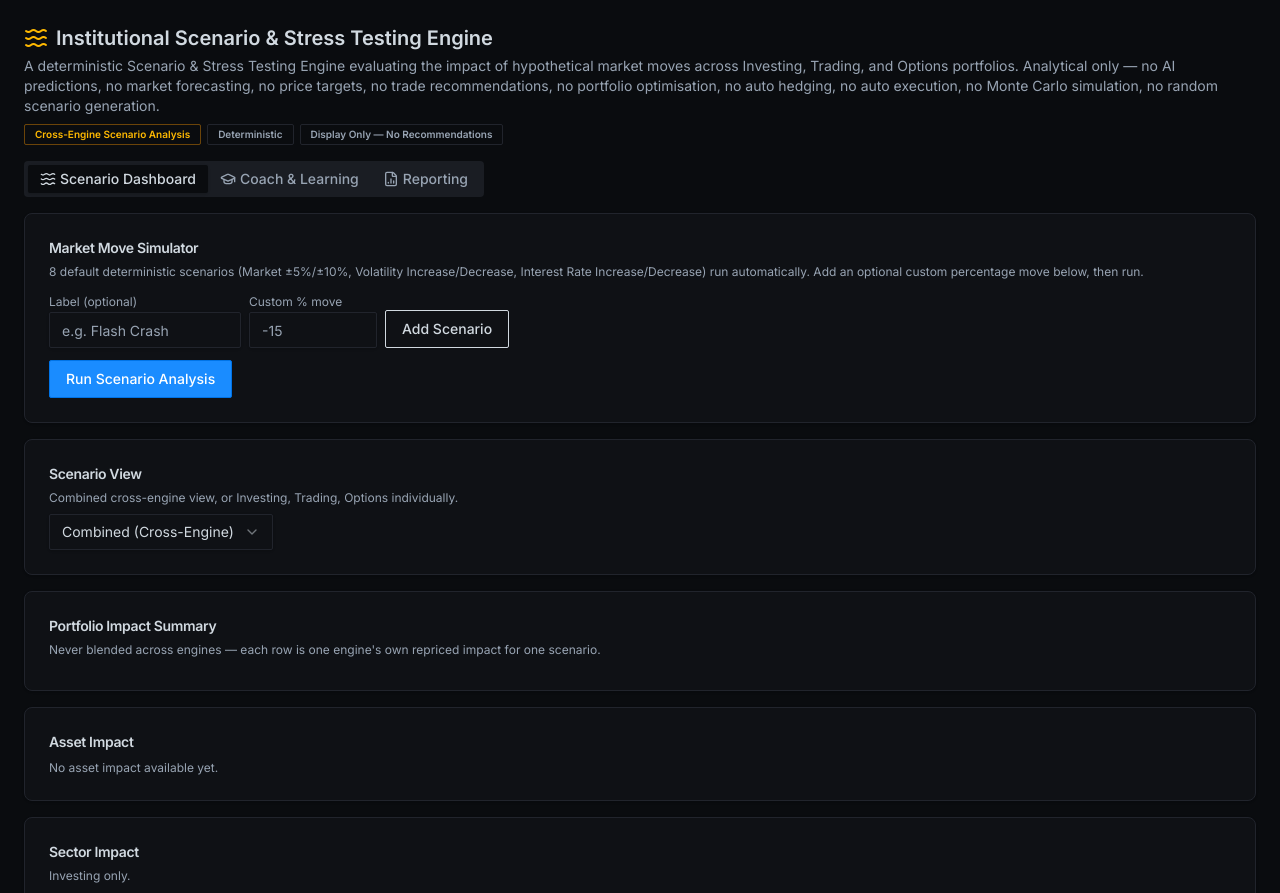
Test: ScenarioEngine › shows an honest unavailable message for Options when the user has no open positions, never a fabricated scenario result
The width and height of the screenshot is (1280, 893).
Click the dropdown with test id "scenario-view-select". click: {"x": 161, "y": 532}
box: 49,514 -> 273,550
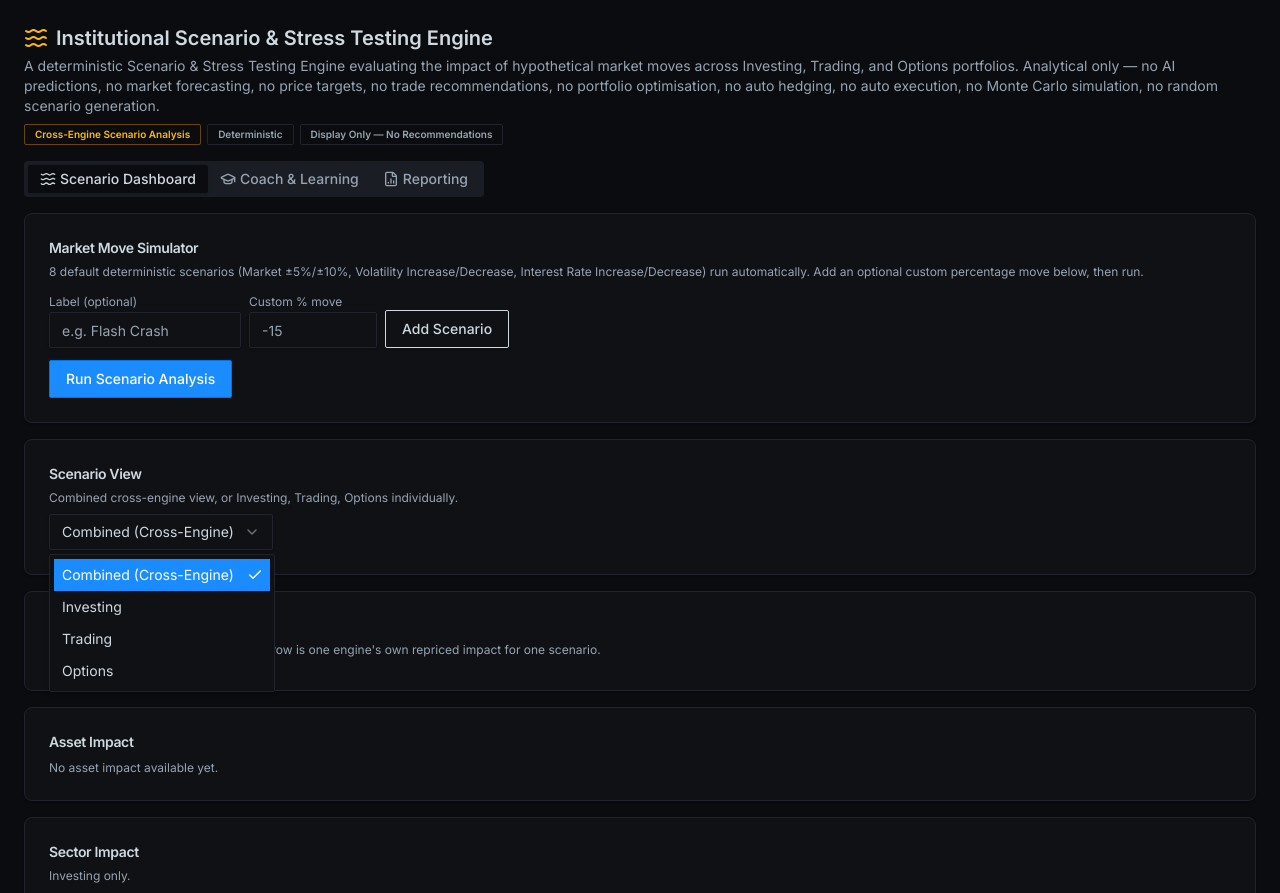
Click the option with test id "scenario-view-option-options". click: {"x": 88, "y": 670}
box: 62,662 -> 113,679
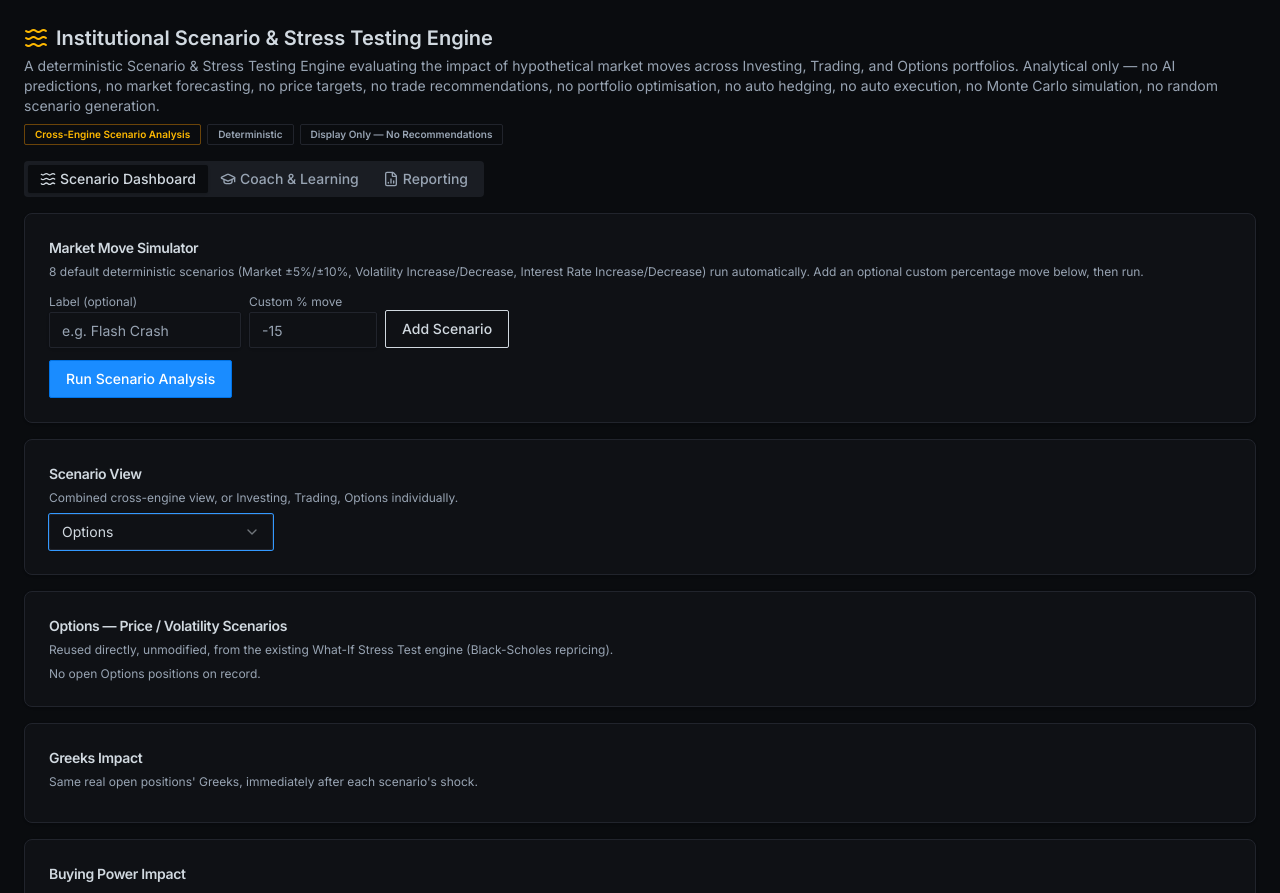
Expected: the text "No open Options positions on record." is shown, 49,666 -> 261,681
